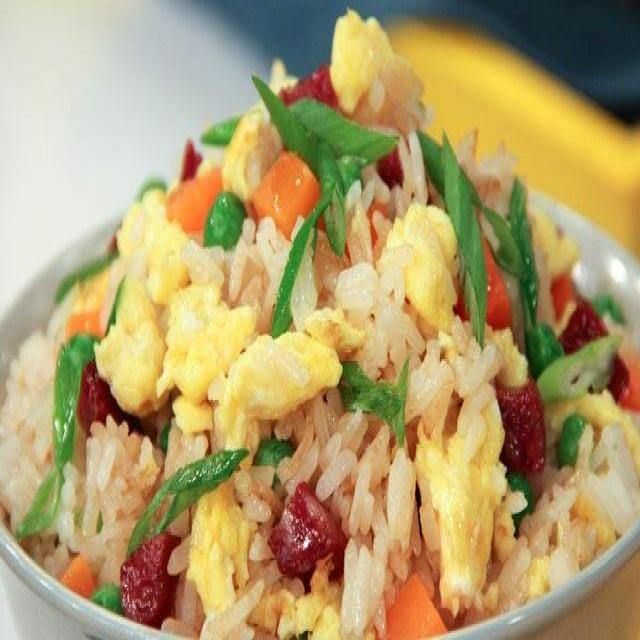Nasi Goreng: (4, 9, 635, 635)
